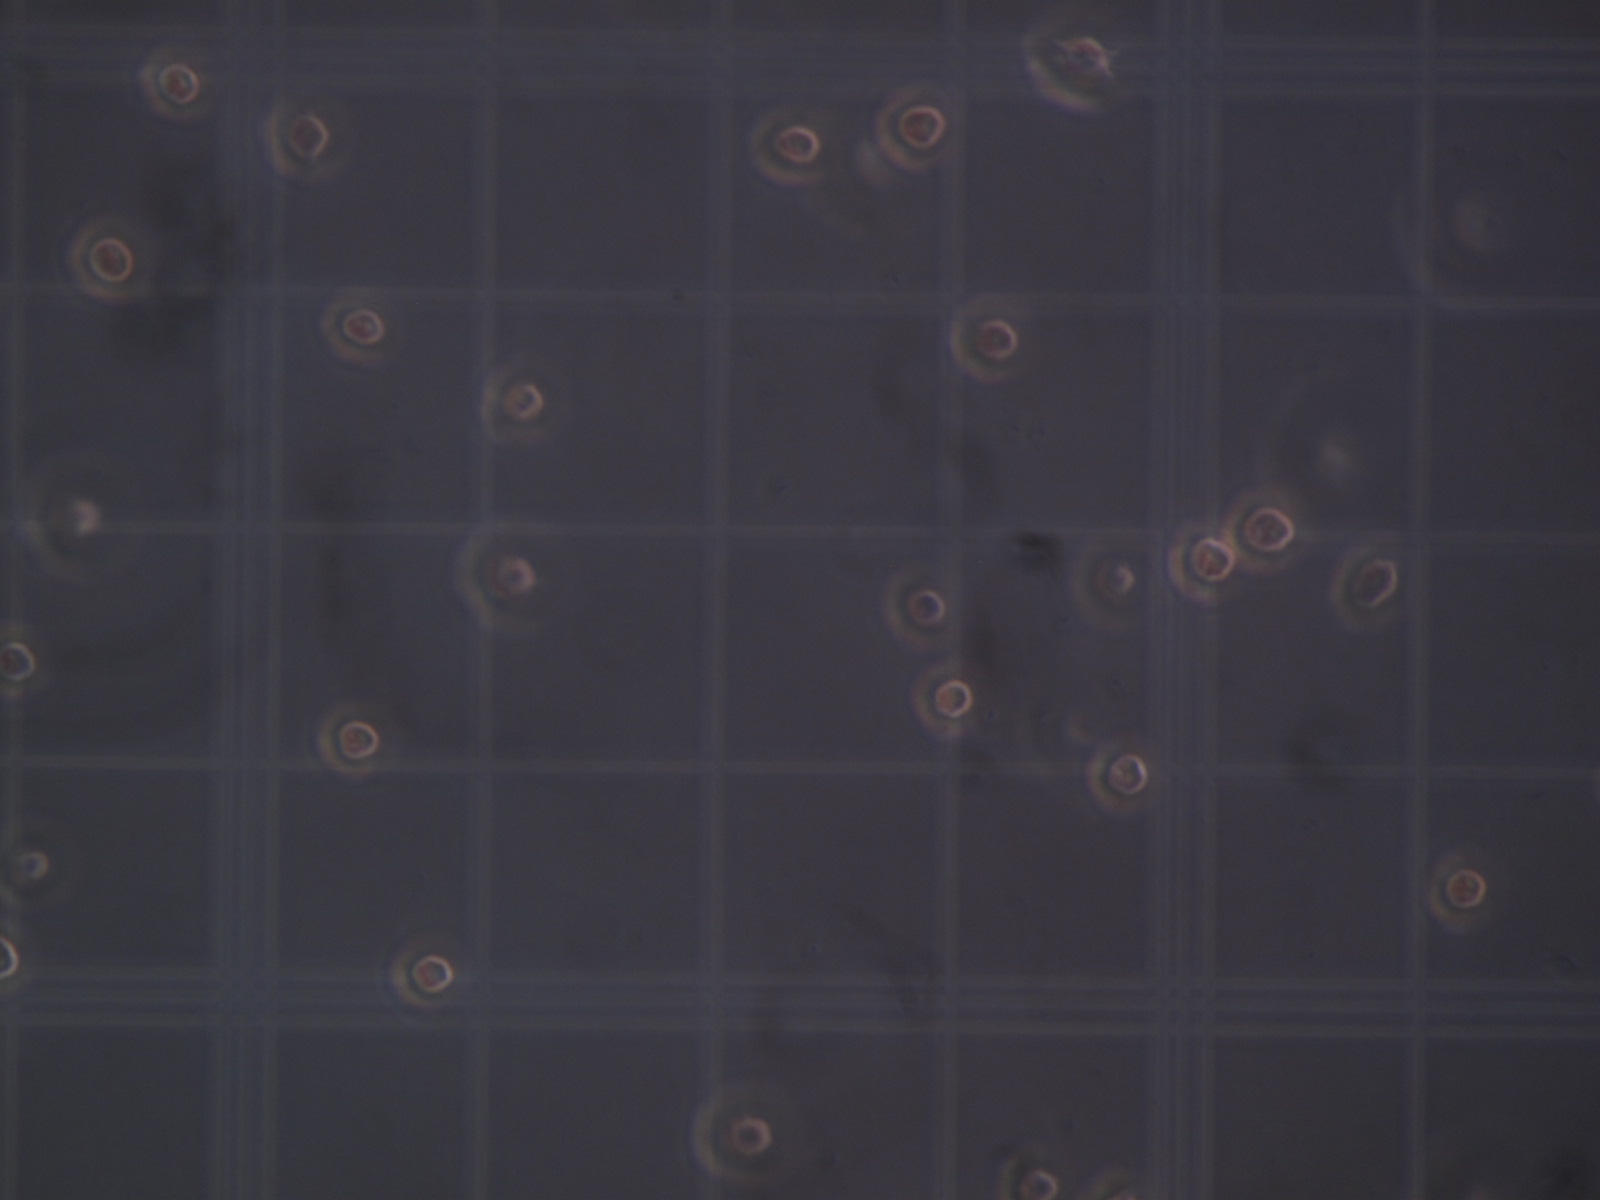hemo: (454, 528, 538, 632), (690, 1087, 772, 1184), (1020, 30, 1114, 111), (1225, 490, 1296, 574), (1071, 543, 1139, 630), (1330, 545, 1398, 630), (874, 93, 947, 171), (949, 301, 1018, 383), (748, 111, 821, 185), (1167, 524, 1236, 603), (480, 363, 547, 442), (265, 101, 330, 180), (883, 571, 947, 650), (67, 226, 134, 301), (1085, 742, 1149, 816), (911, 663, 974, 737), (316, 705, 380, 776), (319, 297, 386, 366), (1427, 856, 1487, 932), (389, 943, 454, 1008), (1, 824, 50, 909), (139, 55, 202, 121), (998, 1152, 1060, 1200), (1, 626, 37, 698), (1, 919, 20, 1000)
